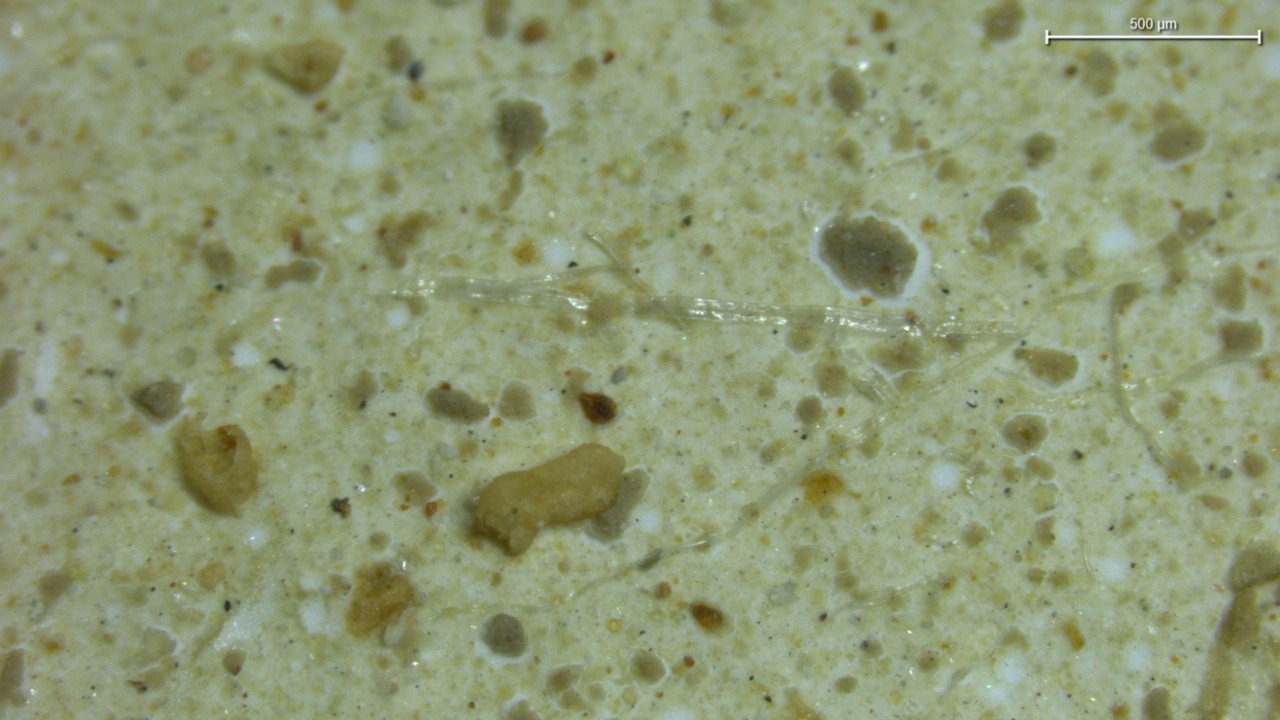microplastic_fragment: (476, 444, 625, 554), (174, 420, 258, 512)
